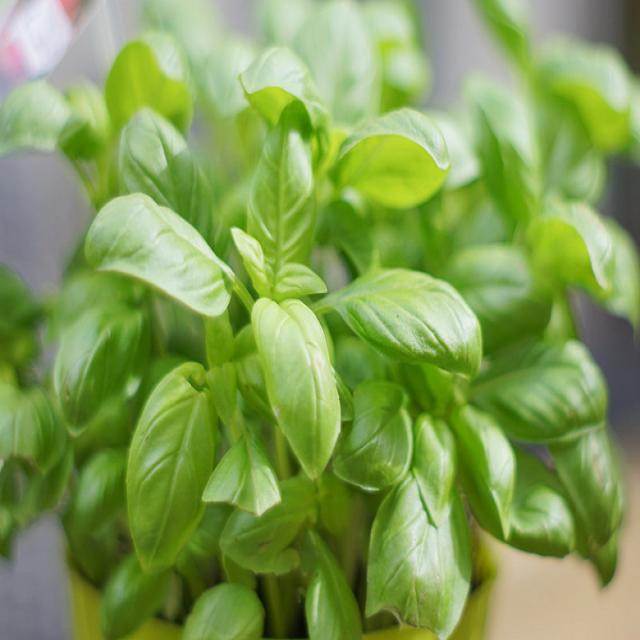Sweet Basil: (89, 104, 512, 634)
